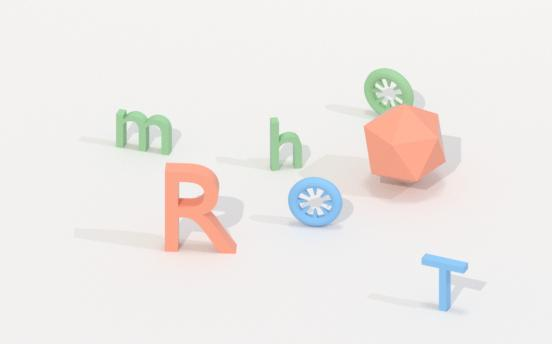R-hoa: (163, 160, 239, 256)
dagiac: (364, 103, 449, 187)
h: (267, 114, 304, 172)
m: (114, 106, 175, 158)
t-hoa: (419, 250, 471, 317)
tron: (361, 65, 419, 122), (288, 175, 345, 230)
